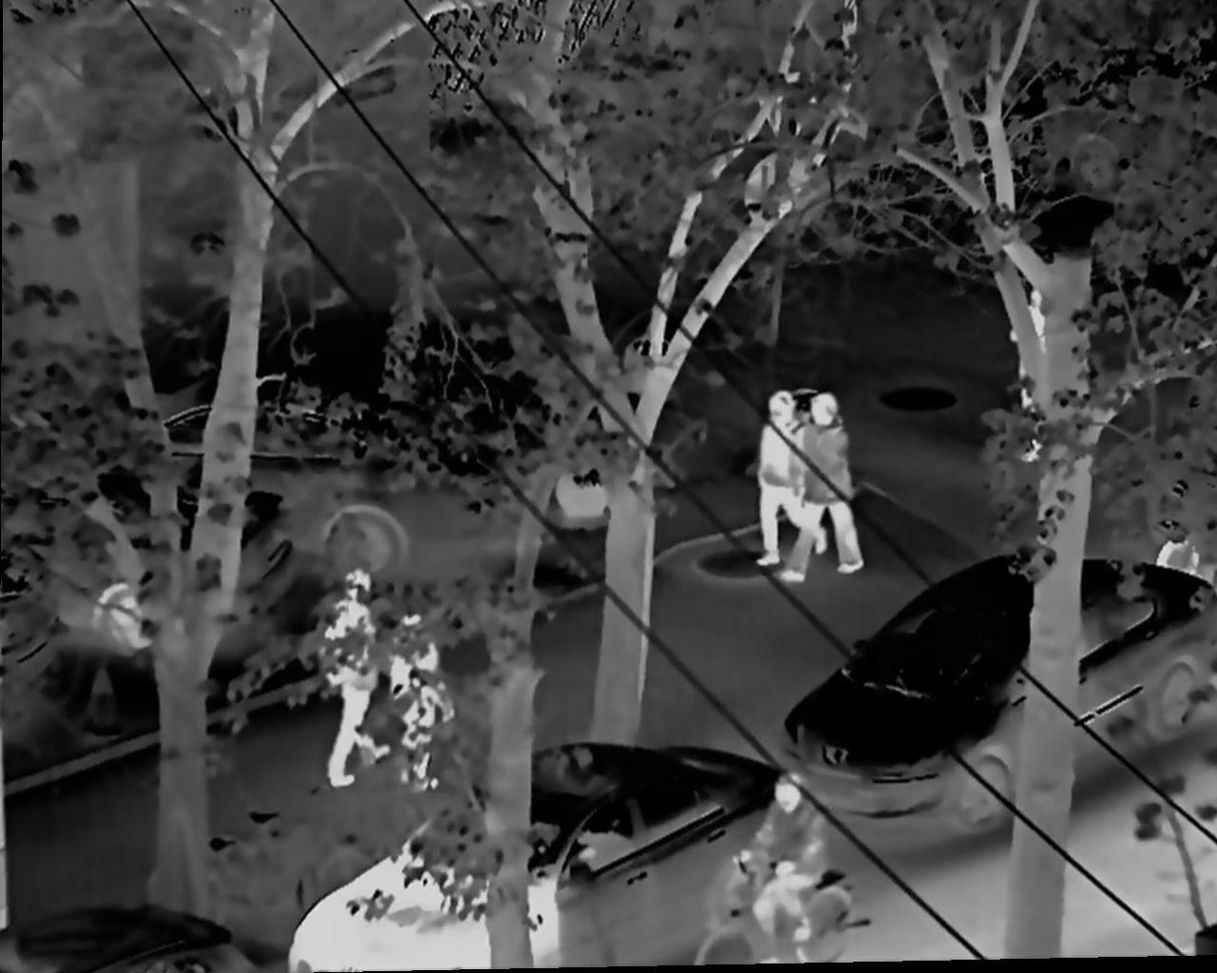person: (727, 772, 825, 961), (316, 563, 393, 801), (791, 391, 866, 582), (752, 387, 830, 562), (393, 608, 456, 791)
